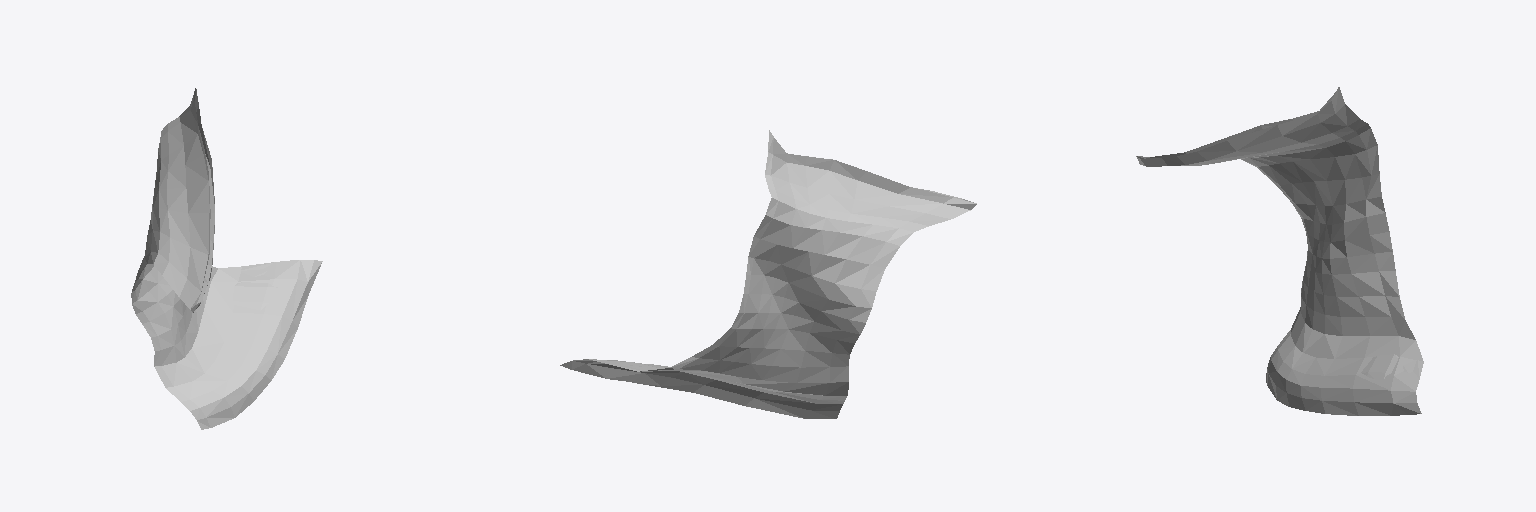
Rendered from front_right.obj.
3 views of the same model, side by side, from view 1: azimuth 30°, elevation 25°; view 2: azimuth 150°, elevation 25°; view 3: azimuth 270°, elevation 25° (orthographic).
Visible parts, largest first — view 1: front_right_3DAnatomyModel_Torso.003; view 2: front_right_3DAnatomyModel_Torso.003; view 3: front_right_3DAnatomyModel_Torso.003.
Boxes of the visible parts, x1=… form: front_right_3DAnatomyModel_Torso.003: x1=131, y1=88, x2=322, y2=429; front_right_3DAnatomyModel_Torso.003: x1=560, y1=130, x2=976, y2=418; front_right_3DAnatomyModel_Torso.003: x1=1136, y1=87, x2=1423, y2=415.
Size of the model in its own units: 1.45 by 1.56 by 1.31.